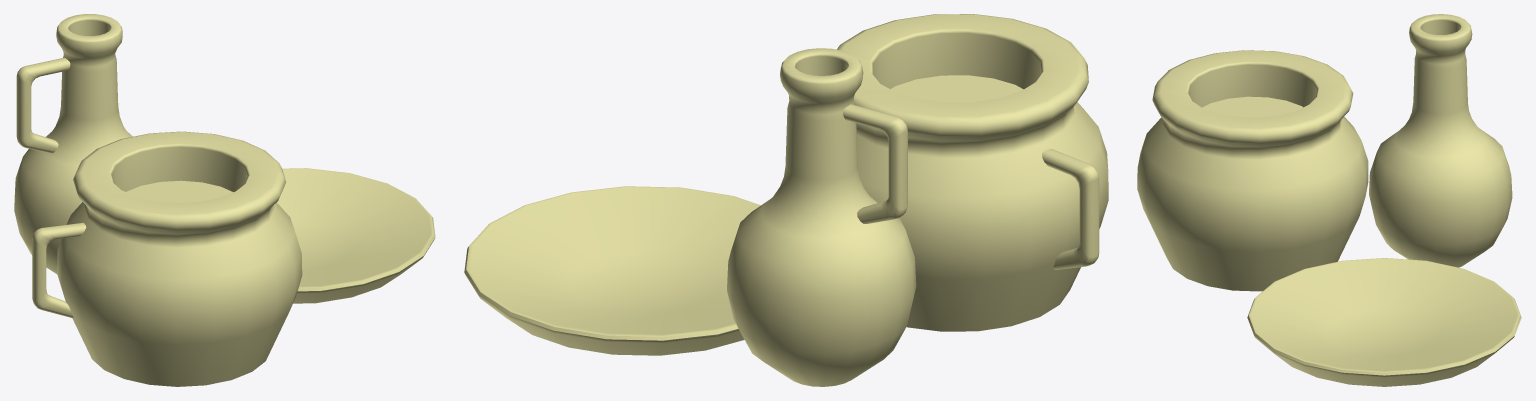
The model's file is M_Vases.fbx.
3 views of the same model, side by side, from view 1: azimuth 30°, elevation 25°; view 2: azimuth 150°, elevation 25°; view 3: azimuth 270°, elevation 25° (orthographic). The views are drawn at different scales.
Parts seen in each view (by area): view 1: pCube23; view 2: pCube23; view 3: pCube23.
Boxes of the visible parts, <box> form: pCube23: <box>14,14,435,386</box>; pCube23: <box>464,14,1108,386</box>; pCube23: <box>1137,14,1521,386</box>.
Size of the model in its own units: 169 by 91.5 by 137.
